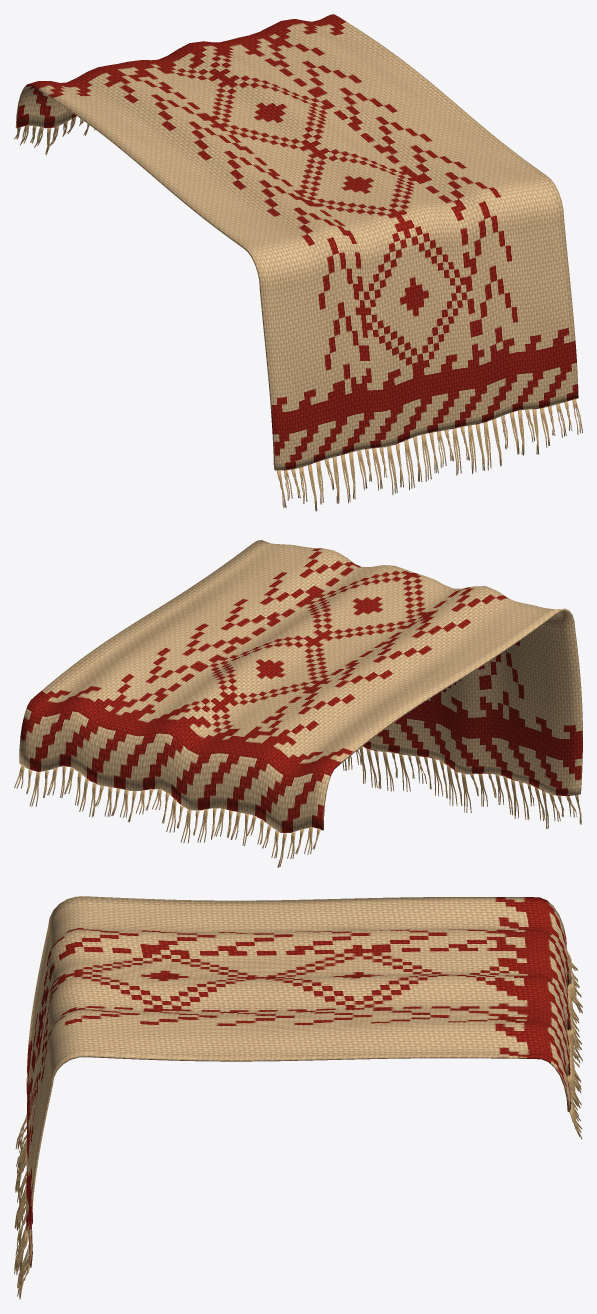
Rendered from bench-runner.glb.
The picture shows the model from 3 angles, top to bottom: view 1: azimuth 30°, elevation 25°; view 2: azimuth 150°, elevation 25°; view 3: azimuth 270°, elevation 25°; orthographic projection. The views are drawn at different scales.
Visible parts, largest first — view 1: bench-runner-mesh; view 2: bench-runner-mesh; view 3: bench-runner-mesh.
Part boxes in pixels (x1,y1,x2,y2): bench-runner-mesh: [14, 14, 582, 511]; bench-runner-mesh: [14, 540, 582, 867]; bench-runner-mesh: [14, 896, 582, 1299].
Size of the model in its own units: 0.4332 by 0.3425 by 0.6538.
Materials: 2 (2 with a texture image).
